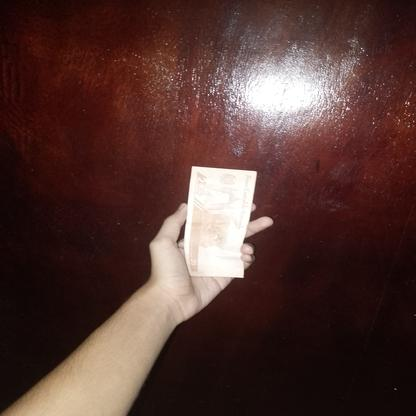twenty-back-vef: (183, 166, 257, 278)
